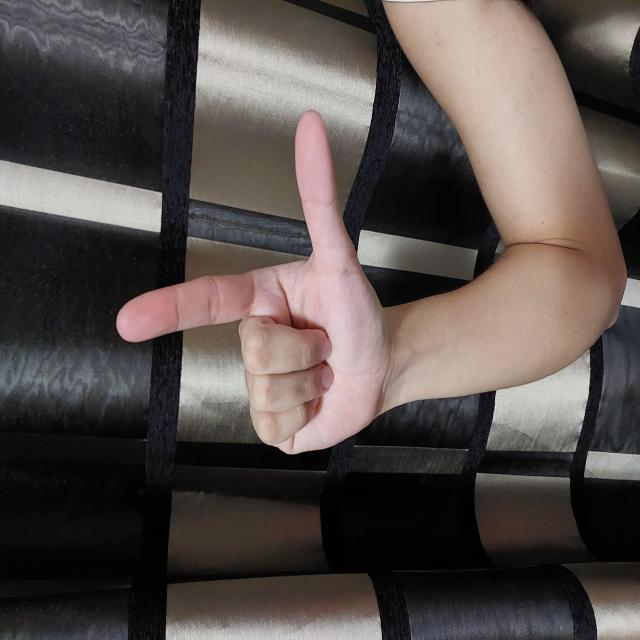L: (183, 113, 533, 394)
